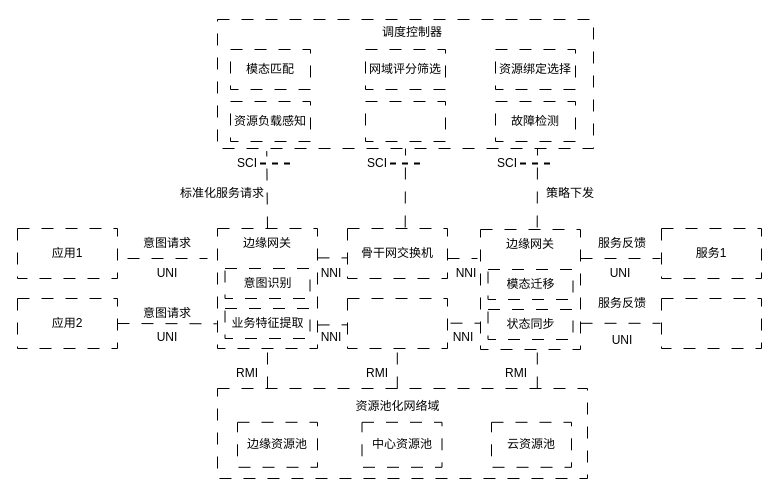
Some shapes in this 779 by 496 pixel diagram are drawn without their labels. Each missing label, with the centre of its shape:
服务2: [711,323]
流表生成: [405,121]
算力路由器: [397,323]
